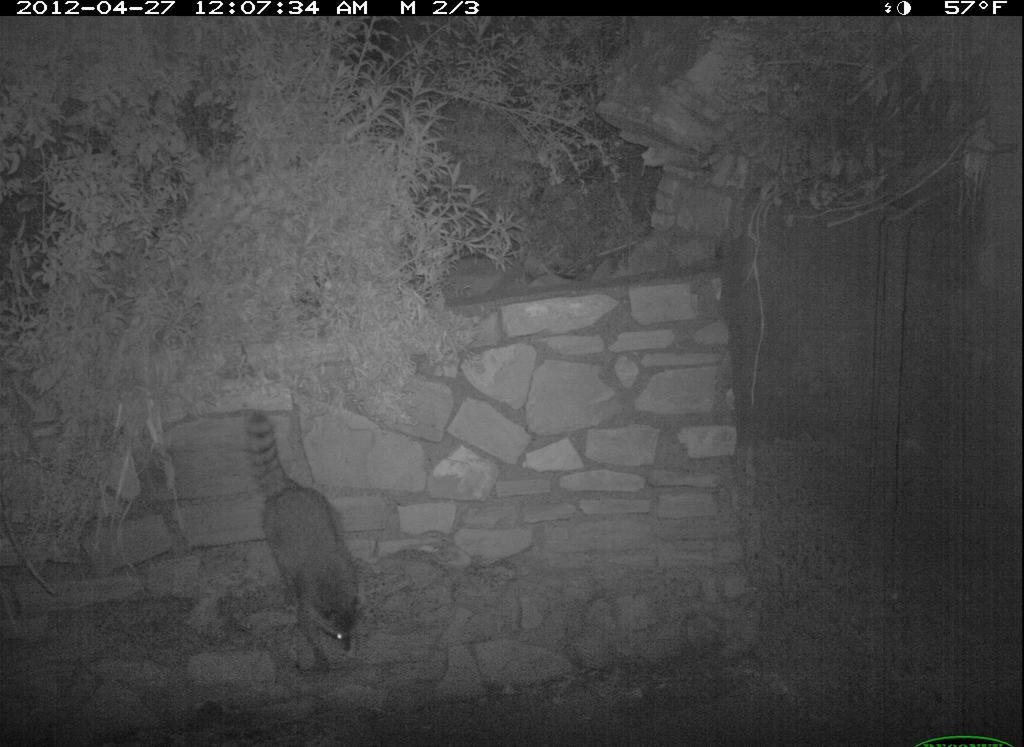raccoon: (226, 387, 386, 675)
